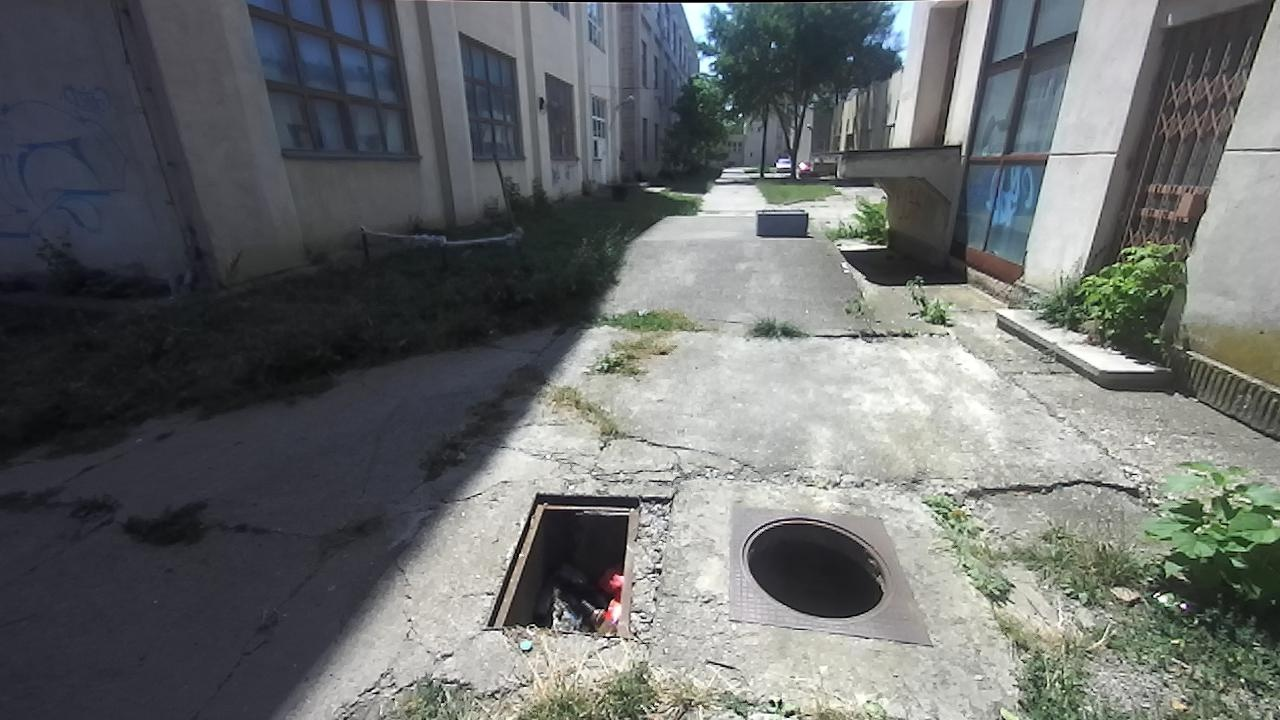drain: (475, 487, 645, 636), (732, 512, 899, 624)
